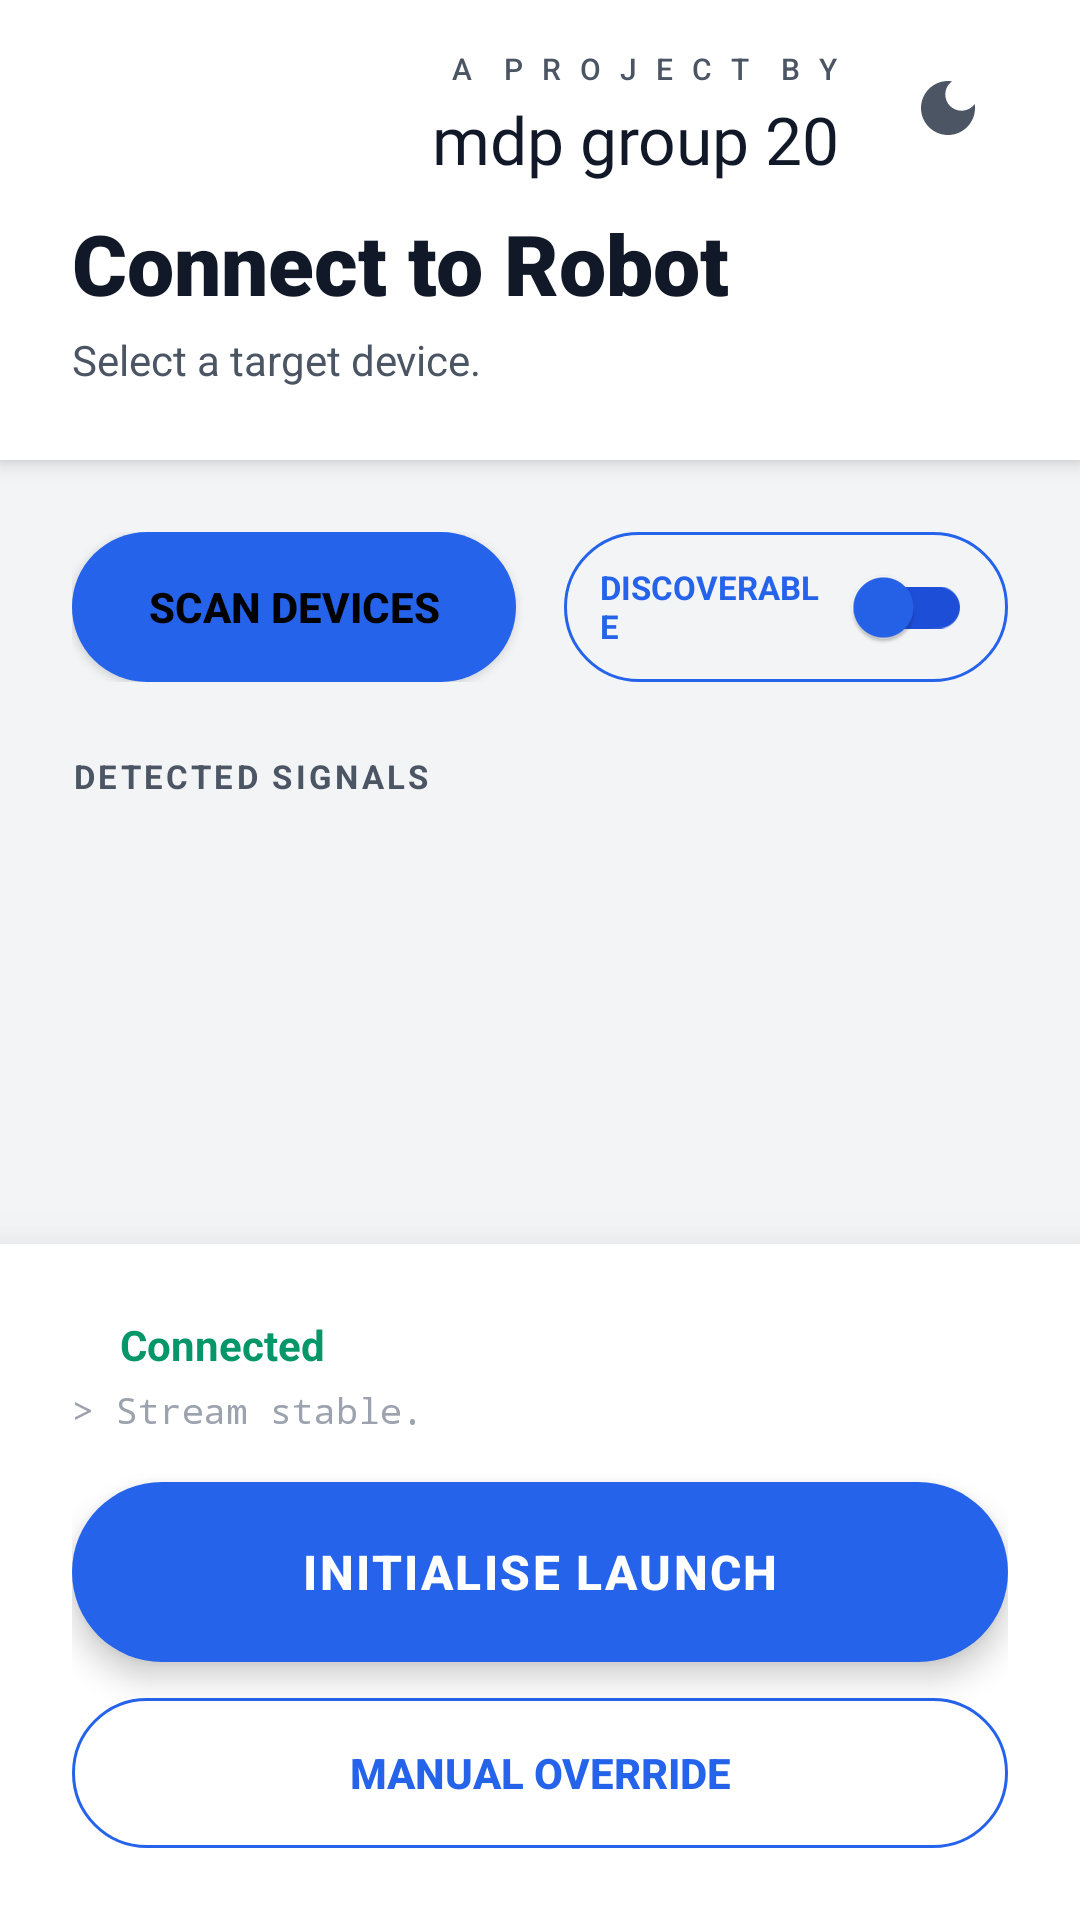

Where icons sit on this 1080px×1920px app screen, as (x1, y1, x2, y2):
Toggle Theme: (921, 81, 975, 135)
